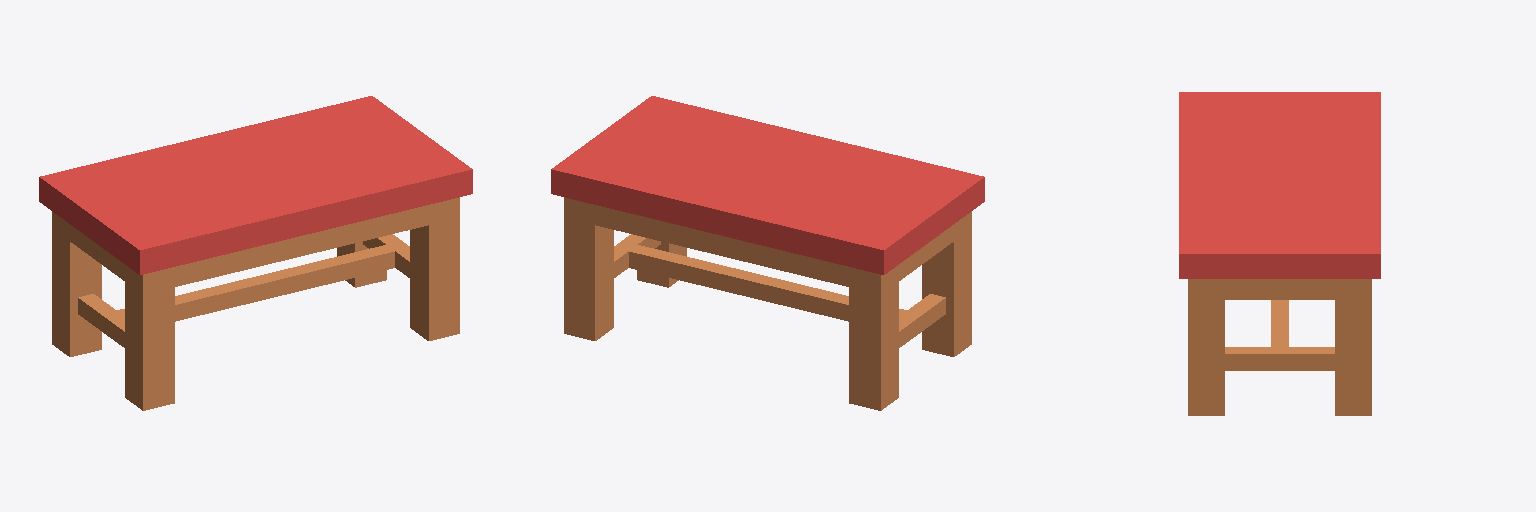
File: benchCushionLow.obj
3 renders of one model, left to right at view 1: azimuth 30°, elevation 25°; view 2: azimuth 150°, elevation 25°; view 3: azimuth 270°, elevation 25°, orthographic.
Visible parts, largest first — view 1: benchCushionLow; view 2: benchCushionLow; view 3: benchCushionLow.
Boxes of the visible parts, x1,y1,x2,y2 form: benchCushionLow: [39, 96, 472, 410]; benchCushionLow: [551, 96, 984, 410]; benchCushionLow: [1179, 92, 1380, 415].
Size of the model in its own units: 0.42 by 0.2 by 0.22.